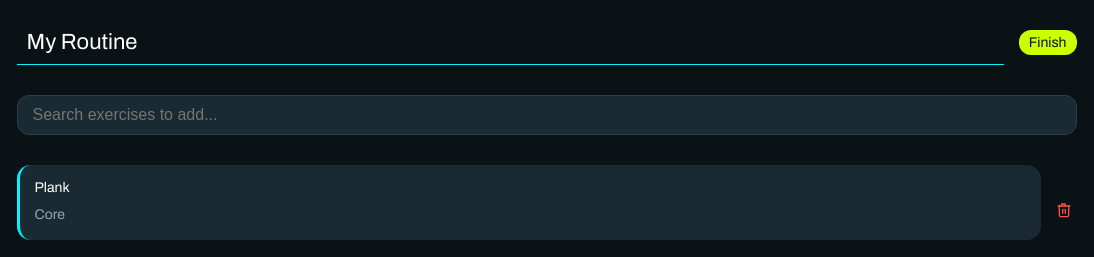
Scenario: EditRoutinePage › shows "No exercises found" when search matches nothing
Type "xyz" into the search field with placeholder "Search exercises to add..." at coordinates (546, 115), box [16,95,1076,135]
(page scrolled)
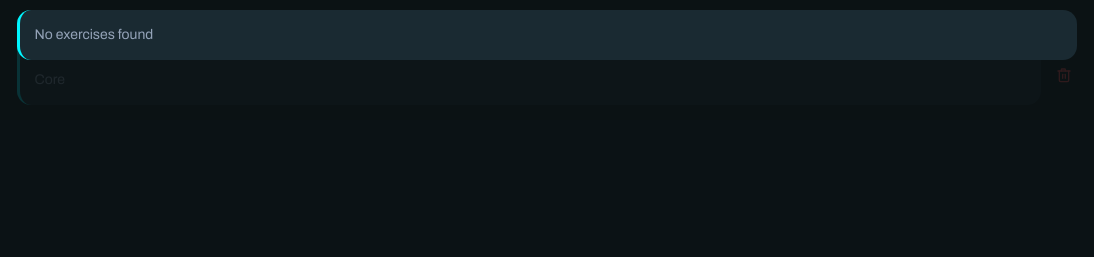
Check: the list item "No exercises found" is shown, box [16,10,1076,60]
